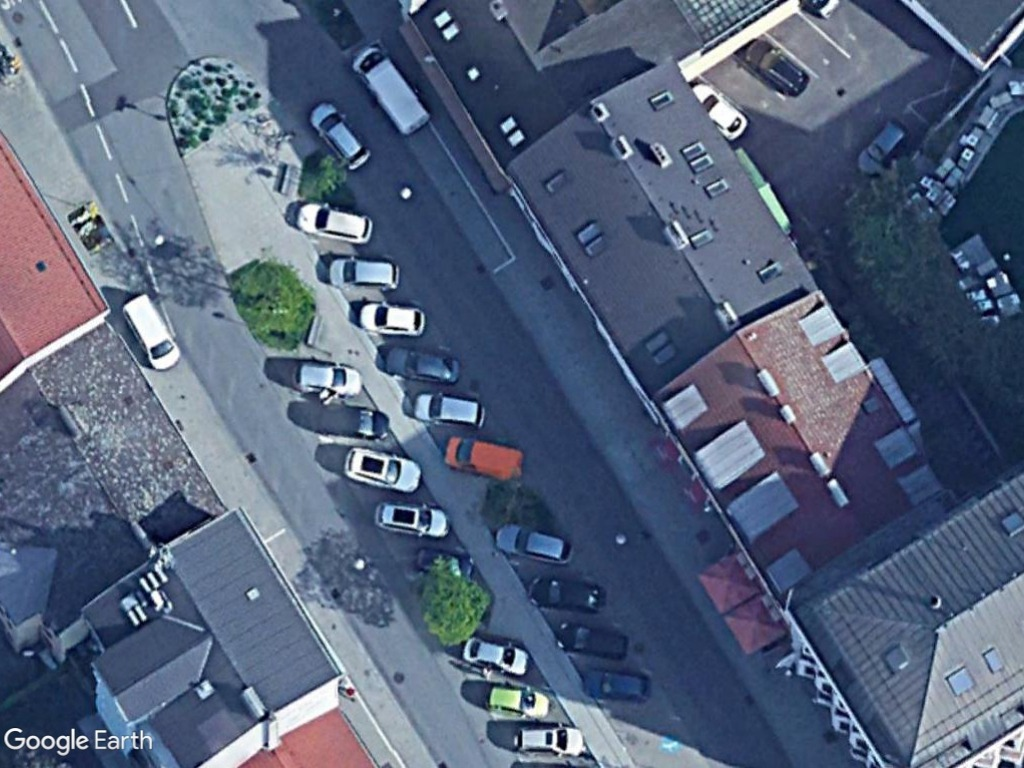car: (306, 101, 375, 171), (486, 519, 576, 568), (336, 447, 424, 496), (295, 200, 374, 248), (520, 574, 607, 616), (310, 400, 393, 442), (372, 500, 451, 543), (383, 344, 464, 385), (459, 631, 529, 677), (289, 360, 367, 400), (408, 390, 488, 429), (552, 621, 632, 660), (507, 720, 582, 761), (577, 667, 656, 704), (326, 255, 400, 293), (358, 300, 429, 339), (482, 684, 552, 722)
van: (349, 46, 430, 139), (117, 285, 183, 375), (439, 435, 528, 481)
